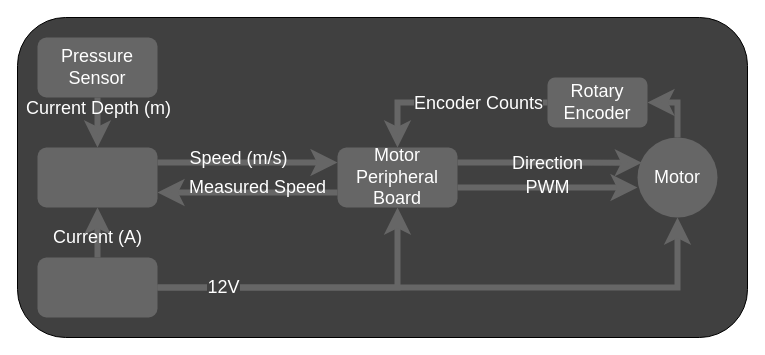
Some shapes in this 765 by 355 pixel diagram are drawn without their labels. Each missing label, with the box of its shape:
Battery Management System: (37, 257, 157, 317)
CawPy Controller: (37, 147, 157, 207)
